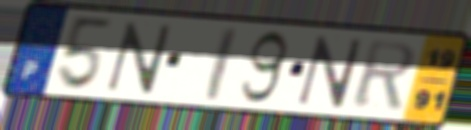5: (52, 16, 118, 92)
9: (239, 29, 291, 105)
I: (203, 25, 240, 103)
N: (293, 34, 367, 110), (103, 20, 176, 96)
R: (349, 39, 420, 111)
